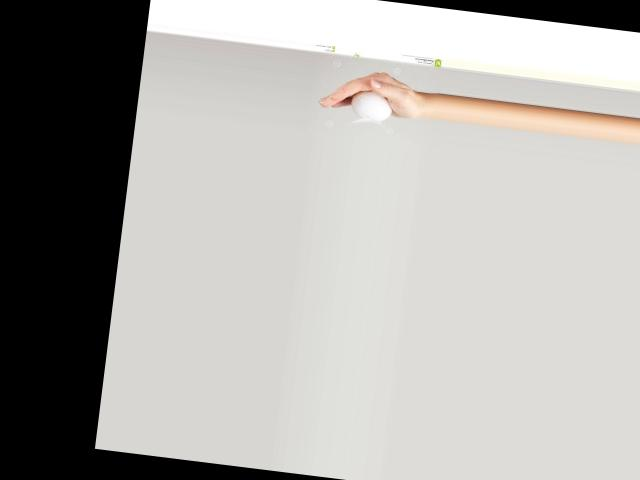egg: (348, 88, 393, 121)
